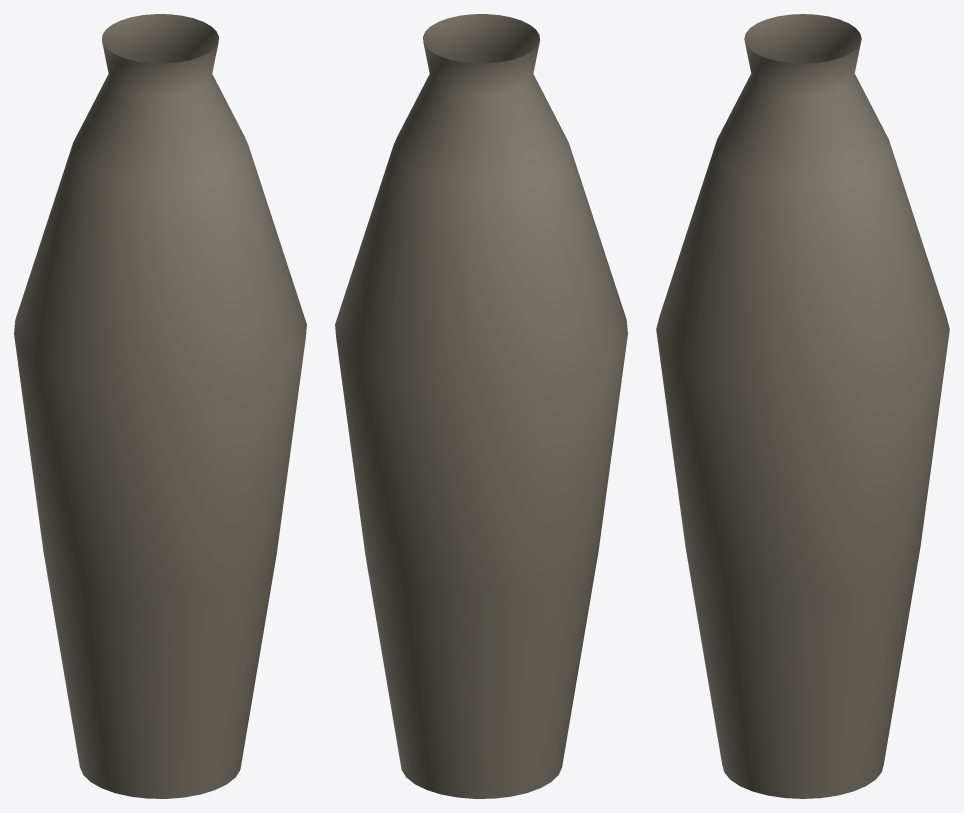
Rendered from HIN-VAS-tall.glb.
The picture shows the model from 3 angles, left to right: view 1: azimuth 30°, elevation 25°; view 2: azimuth 150°, elevation 25°; view 3: azimuth 270°, elevation 25°; orthographic projection.
Visible parts, largest first — view 1: HIN-VAS-tall; view 2: HIN-VAS-tall; view 3: HIN-VAS-tall.
Part boxes in pixels (left/top/right/bottom): HIN-VAS-tall: left=14, top=14, right=306, bottom=798; HIN-VAS-tall: left=335, top=14, right=627, bottom=798; HIN-VAS-tall: left=656, top=14, right=949, bottom=798.
Size of the model in its own units: 0.22 by 0.6 by 0.22.
